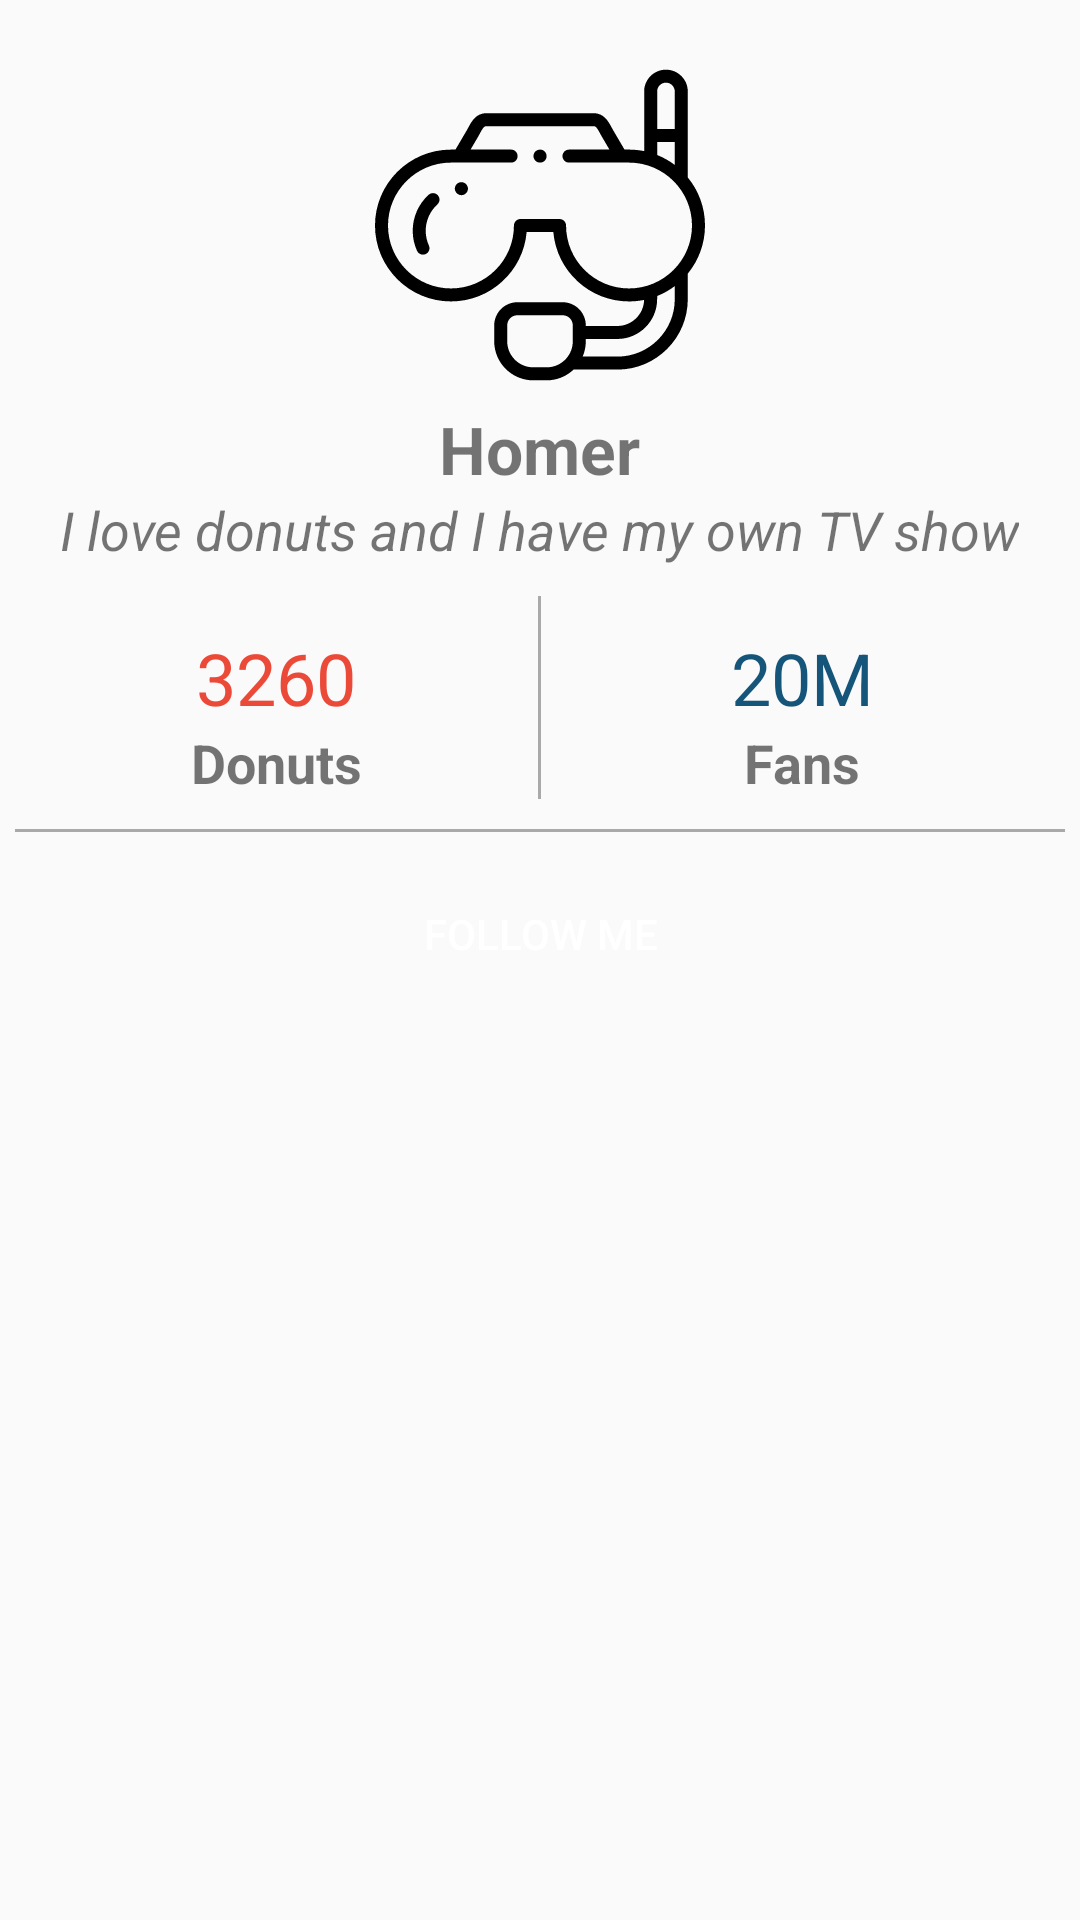

Screen size 1080w x 1920h. Icon name, then its box in pixels as (x1, y1, x2, y2):
snorkel: (375, 69, 705, 381)
